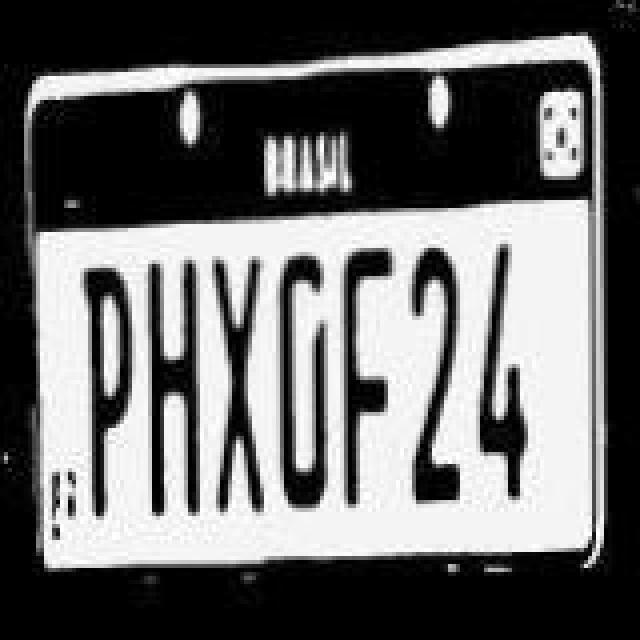2: (406, 242, 462, 506)
4: (472, 242, 532, 506)
D: (276, 254, 328, 510)
F: (334, 248, 390, 516)
H: (142, 260, 198, 524)
P: (78, 264, 134, 520)
X: (210, 256, 266, 516)
